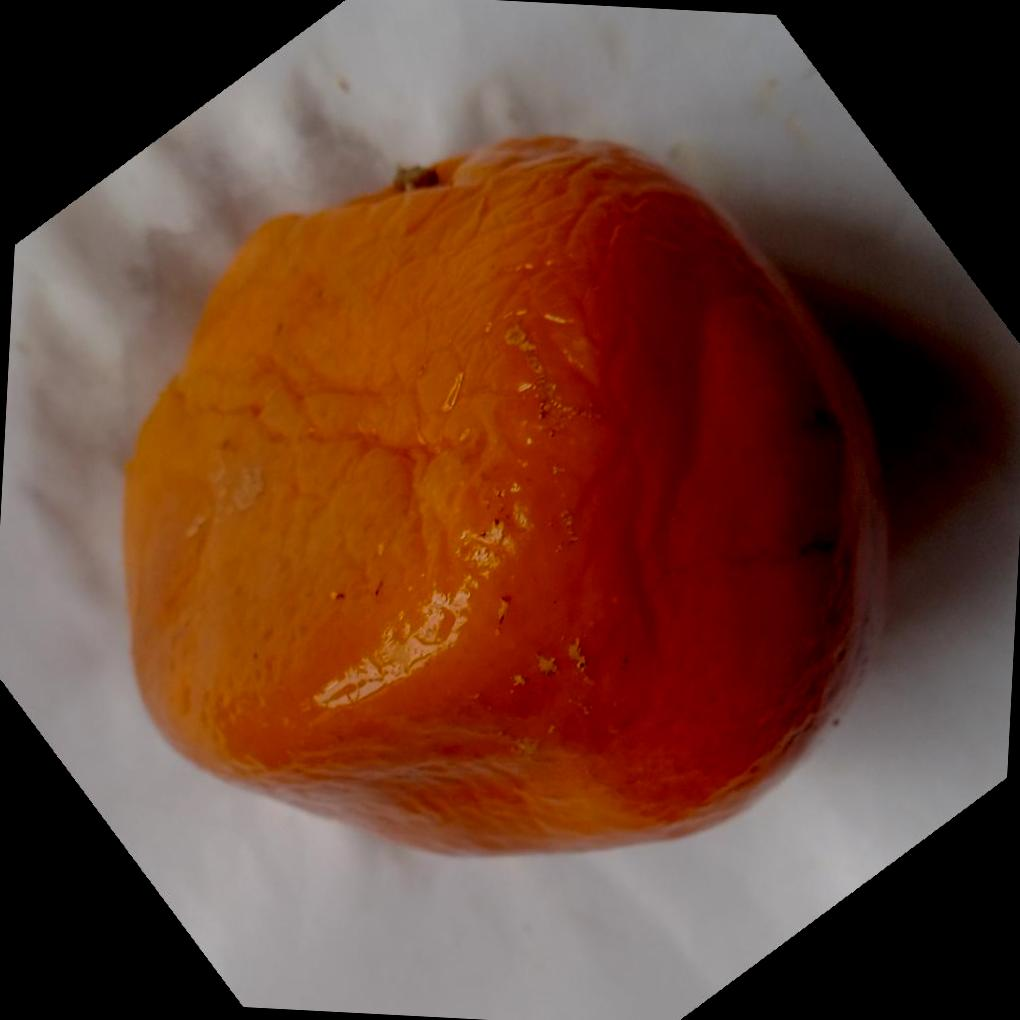FreshOrange: (119, 127, 894, 858)
